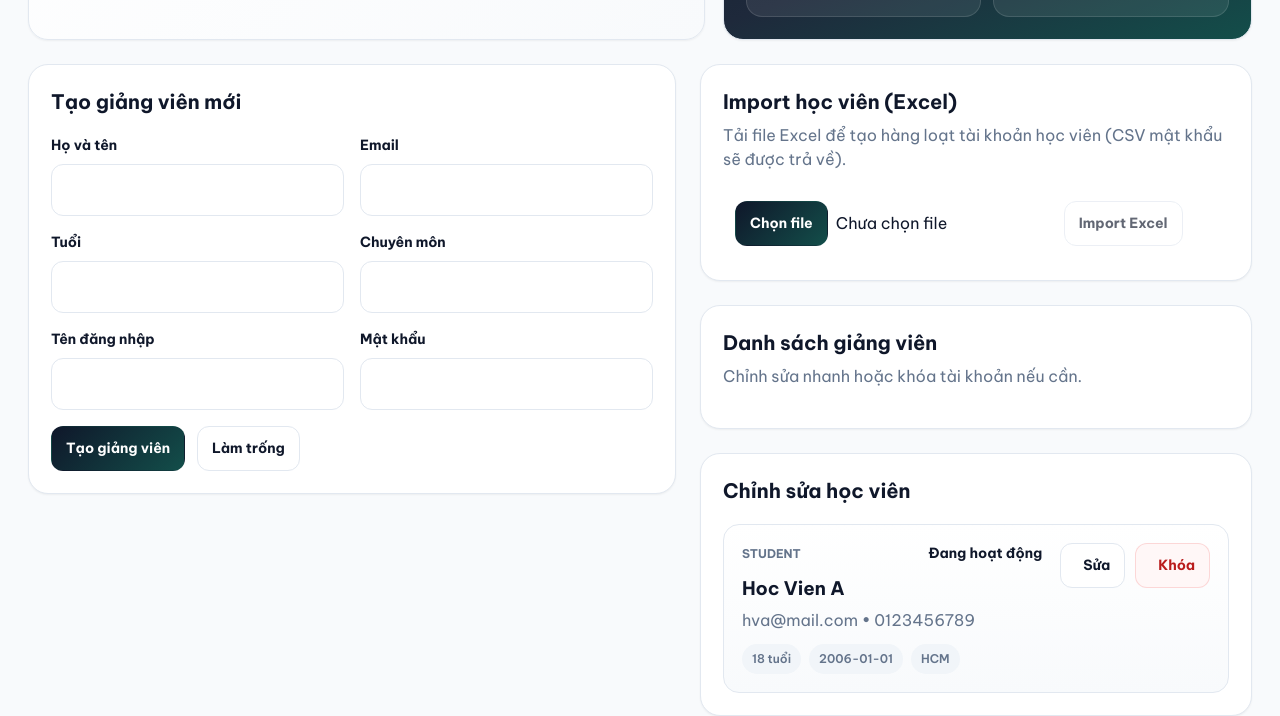
Test case: AdminUsersPage › khoa tai khoan thanh cong
(page scrolled)
Click the button "Khóa".
click(1173, 565)  # box [1135, 543, 1210, 588]
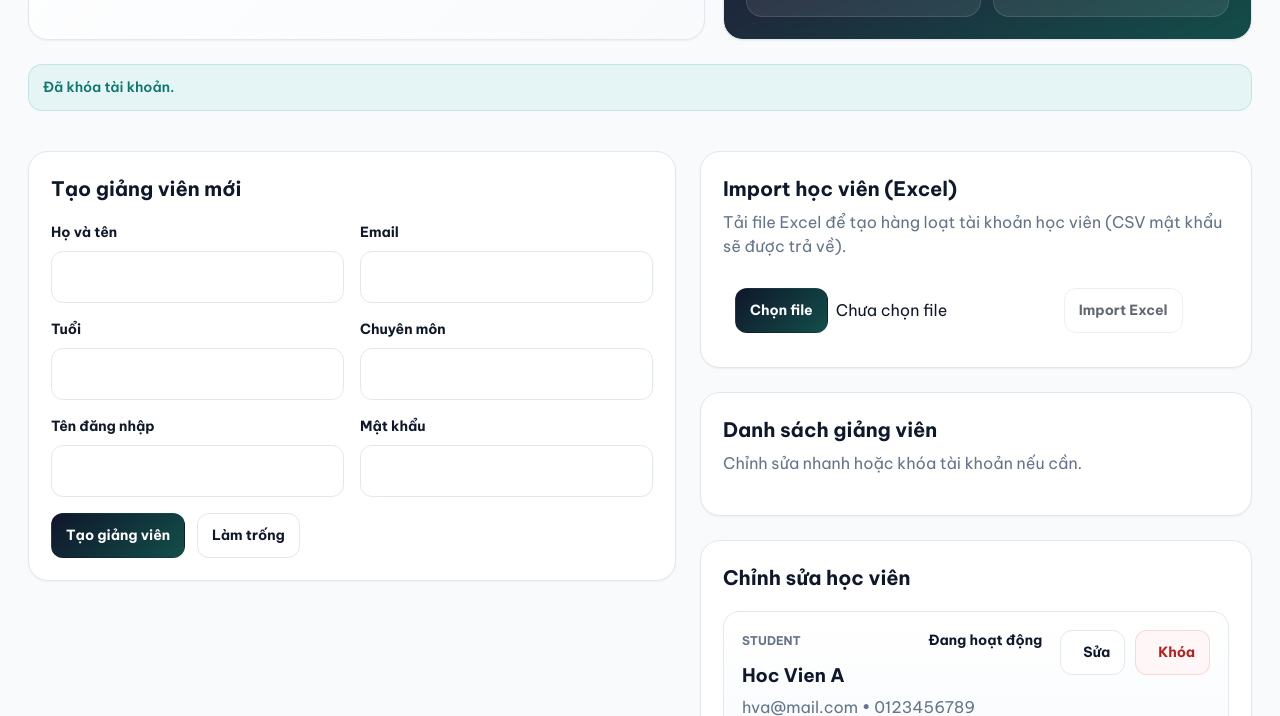
Check: the text "Đã khóa tài khoản." is shown, box [28, 64, 1252, 111]
